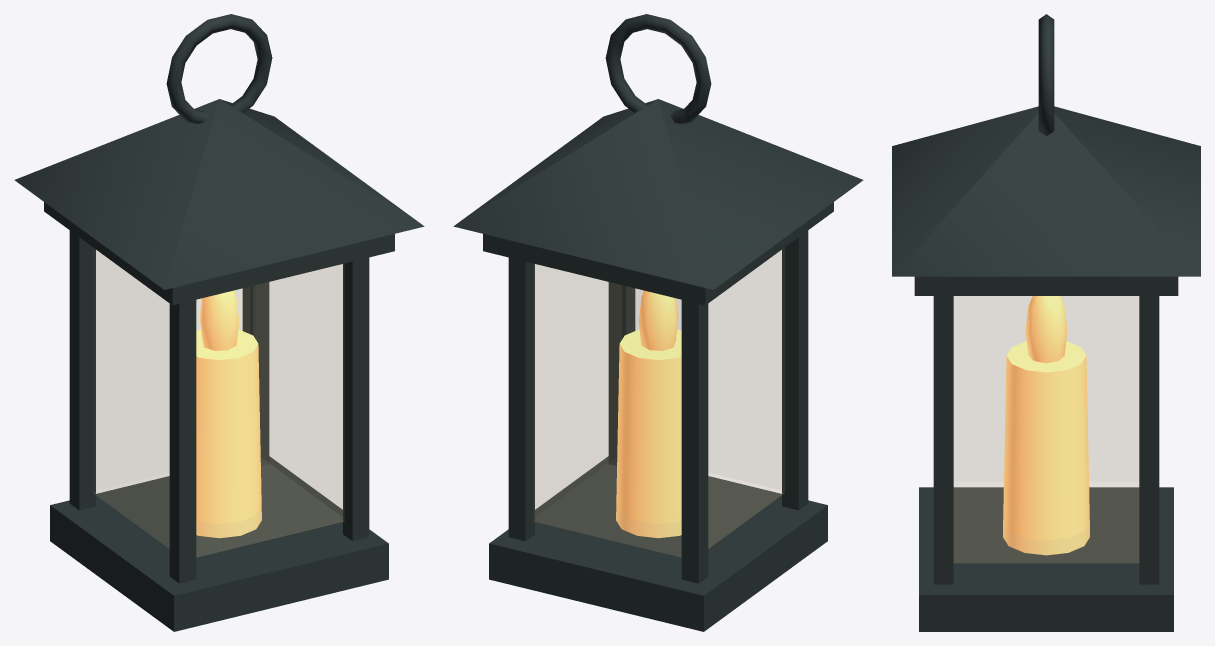
The picture shows the model from 3 angles, left to right: view 1: azimuth 30°, elevation 25°; view 2: azimuth 150°, elevation 25°; view 3: azimuth 270°, elevation 25°; orthographic projection. The views are drawn at different scales.
Parts seen in each view (by area): view 1: Mesh_IronHousing, Mesh_GlazedEnclosure, Mesh_WarmCore; view 2: Mesh_IronHousing, Mesh_GlazedEnclosure, Mesh_WarmCore; view 3: Mesh_IronHousing, Mesh_GlazedEnclosure, Mesh_WarmCore.
Part boxes in pixels (x1=…): Mesh_IronHousing: x1=14, y1=14, x2=424, y2=631; Mesh_GlazedEnclosure: x1=93, y1=248, x2=343, y2=556; Mesh_WarmCore: x1=196, y1=290, x2=261, y2=538; Mesh_IronHousing: x1=453, y1=14, x2=863, y2=631; Mesh_GlazedEnclosure: x1=534, y1=248, x2=784, y2=556; Mesh_WarmCore: x1=616, y1=290, x2=681, y2=538; Mesh_IronHousing: x1=892, y1=14, x2=1200, y2=631; Mesh_GlazedEnclosure: x1=954, y1=296, x2=1138, y2=562; Mesh_WarmCore: x1=1003, y1=296, x2=1089, y2=555.
Size of the model in its own units: 0.3394 by 0.6773 by 0.3394.
